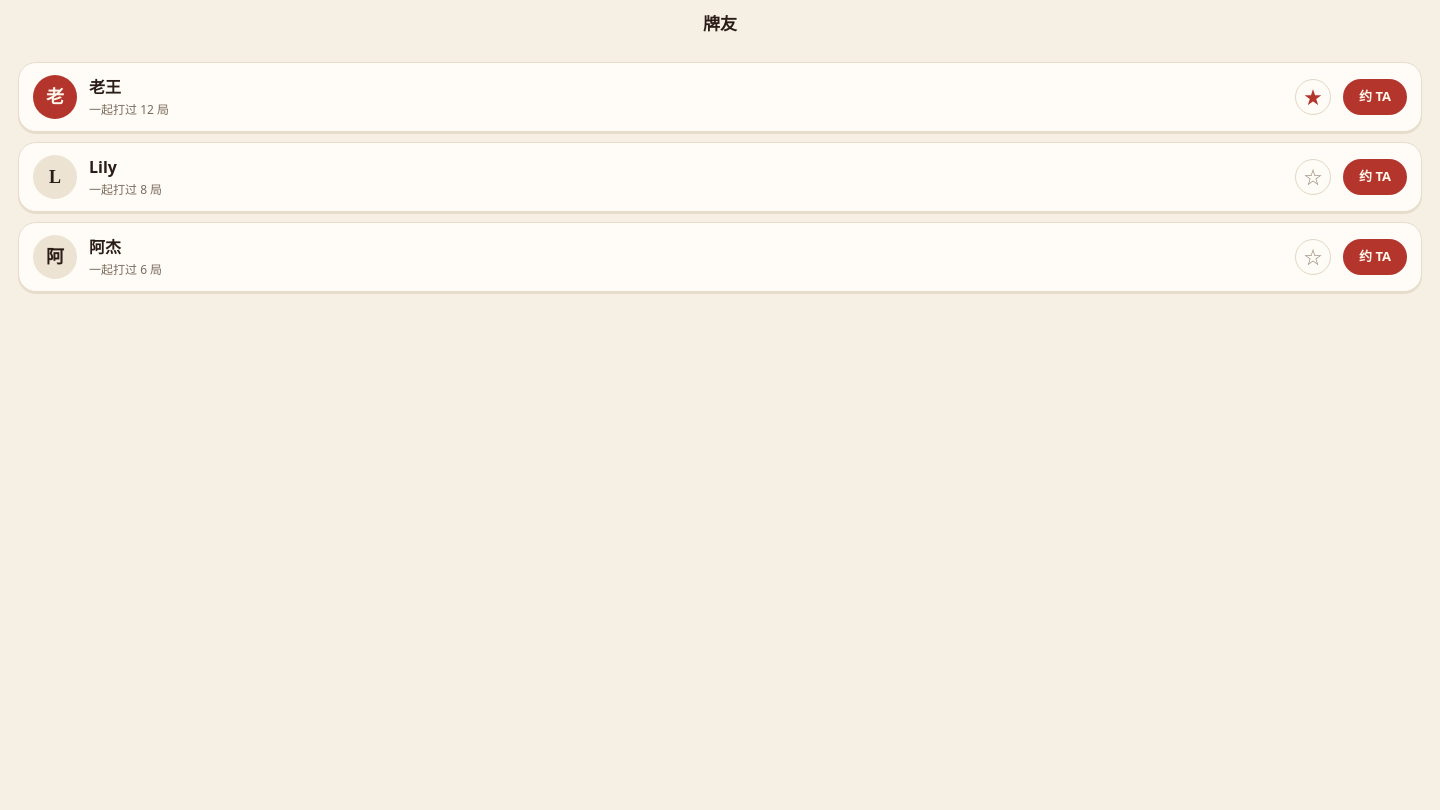
Test: 约 TA（F2） › 标题是「约 Lily 打一局」，三个出口都在
Click the button "约 TA" in the row of "Lily". click: (1375, 177)
box: top-left (1343, 159), bottom-right (1407, 195)
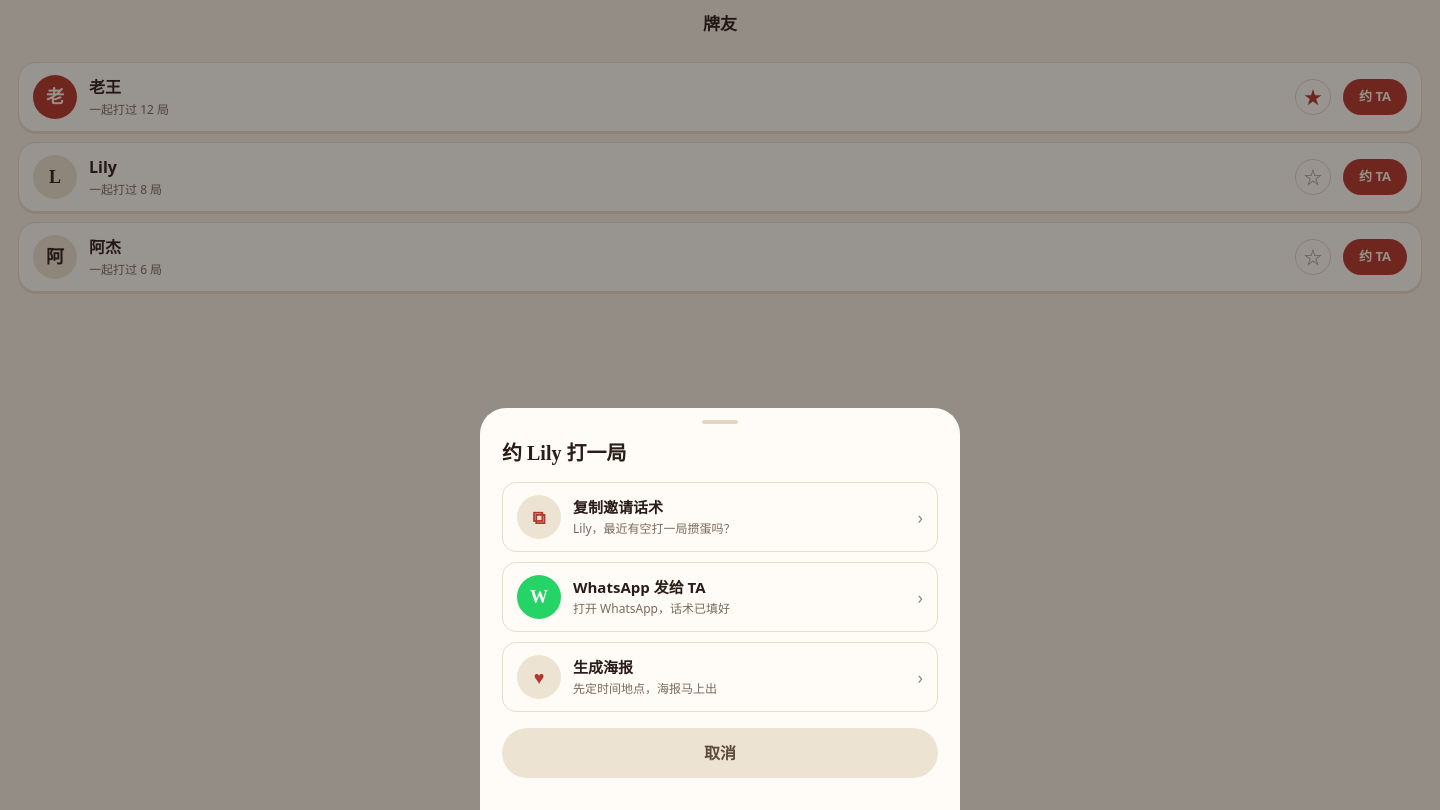
Expected: the dialog with test id "invite-sheet" is shown, top-left (480, 408), bottom-right (960, 809)
Expected: the heading "约 Lily 打一局" is shown, top-left (502, 442), bottom-right (626, 464)
Expected: the dialog with test id "invite-sheet" shows "复制邀请话术", top-left (502, 482), bottom-right (938, 552)
